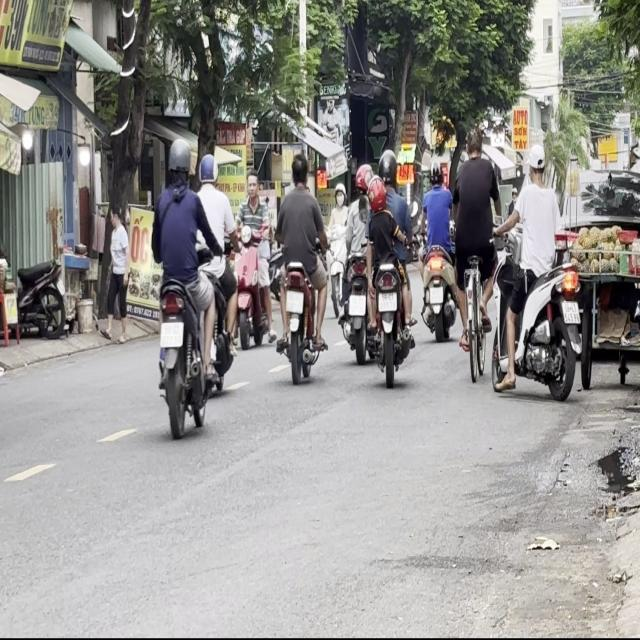helmet: (166, 137, 192, 185), (378, 148, 398, 186), (198, 152, 219, 188), (354, 163, 373, 196)
licenseplate: (148, 134, 228, 435), (498, 139, 581, 398), (272, 152, 330, 382), (364, 147, 417, 383), (192, 147, 240, 399), (333, 156, 371, 360), (234, 170, 273, 349)
motorcyclist: (524, 143, 546, 185), (368, 178, 387, 214), (289, 153, 308, 187), (246, 172, 258, 200)
nohelmet: (160, 322, 184, 347), (285, 289, 303, 312), (562, 301, 580, 324), (378, 292, 396, 312), (350, 294, 364, 316)
